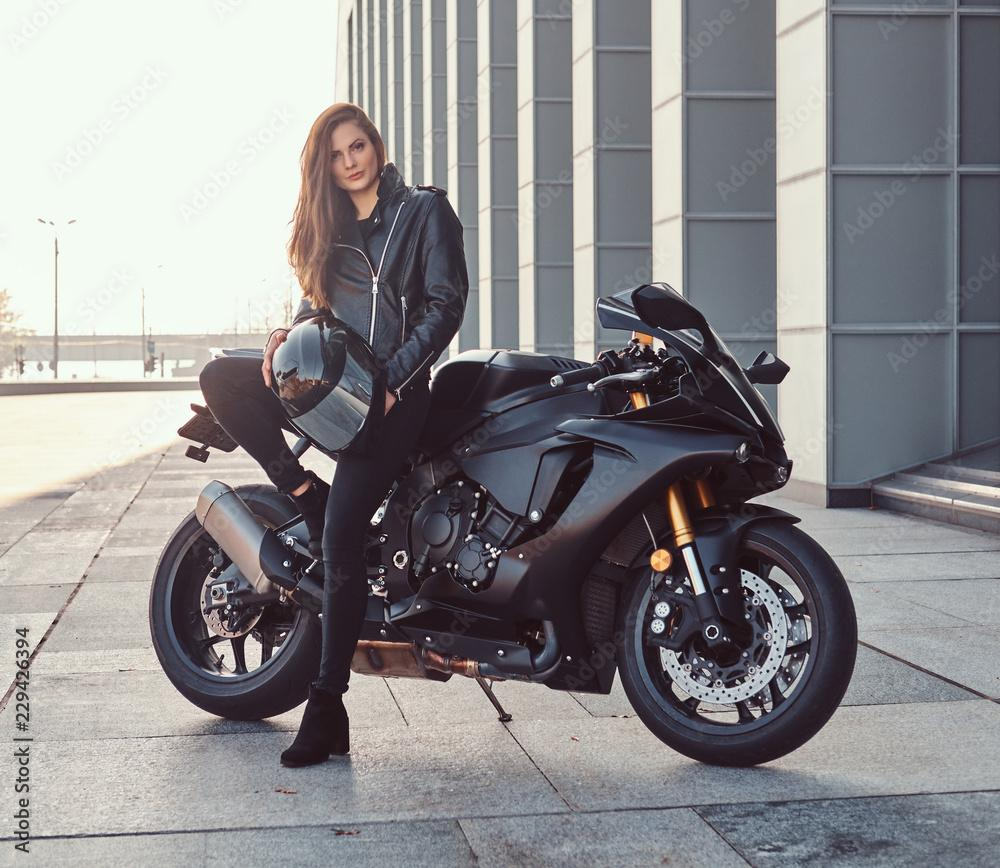helmet: (266, 314, 387, 462)
nohelmet: (304, 101, 382, 194)
